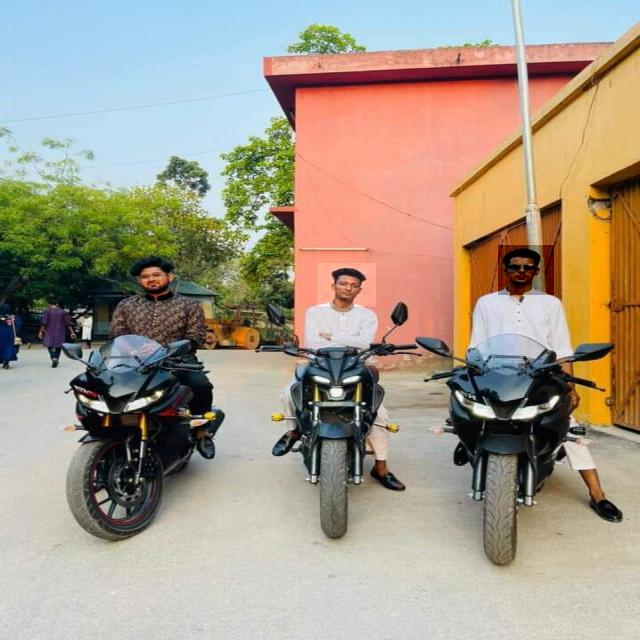No_Helmet: (121, 254, 219, 302), (498, 245, 554, 295), (317, 263, 376, 307)
